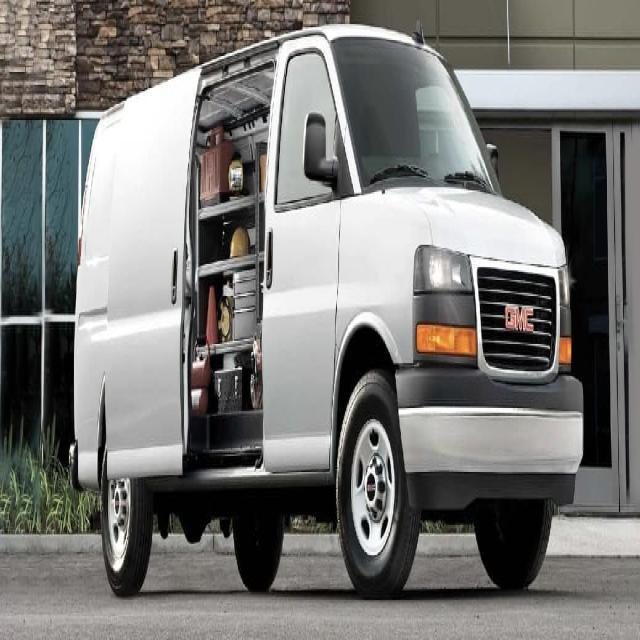truck: (68, 19, 584, 600)
